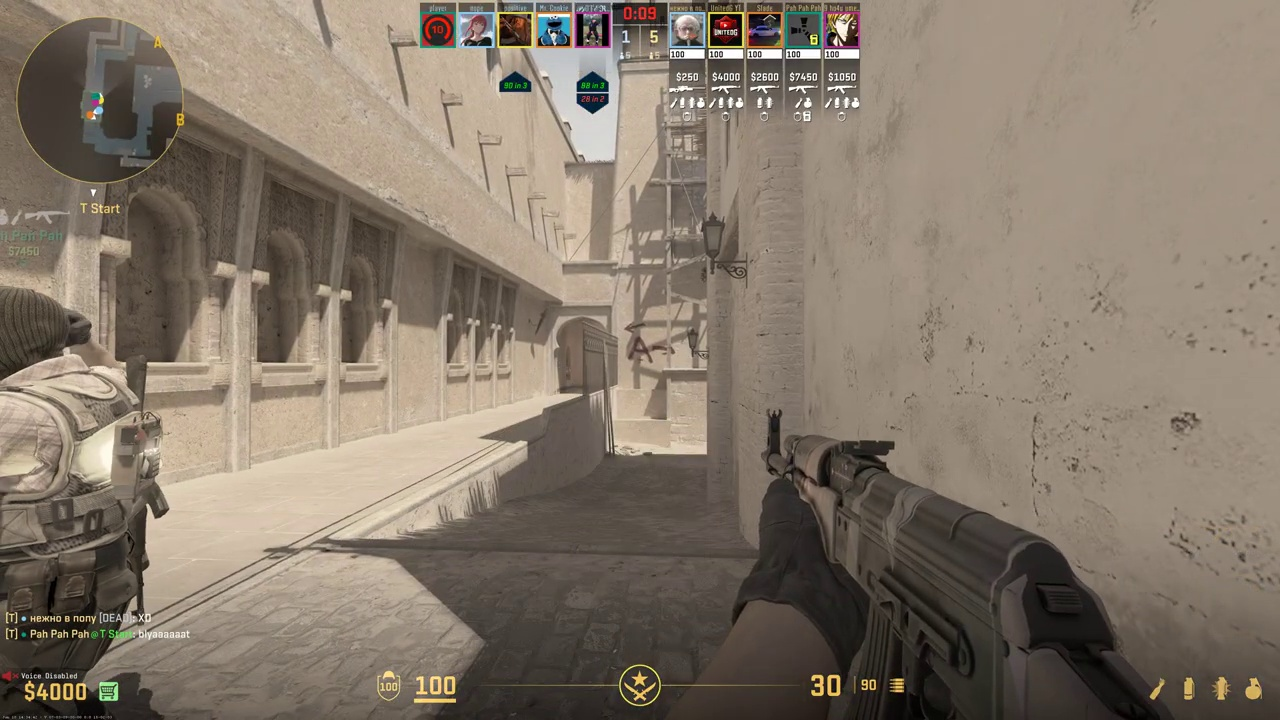Terrorist: (0, 290, 162, 720)
